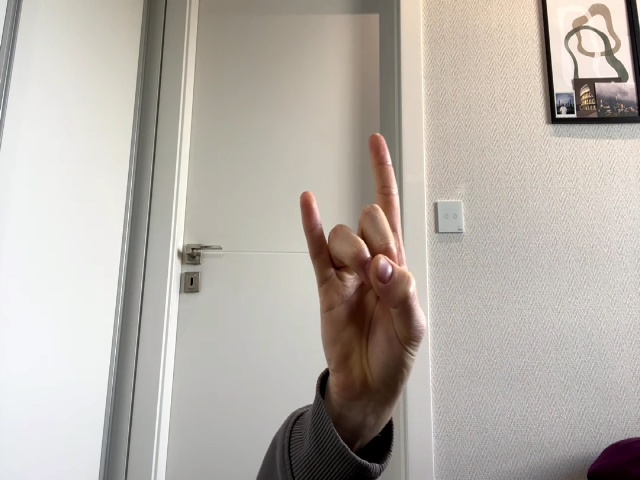Y: (299, 133, 425, 385)
